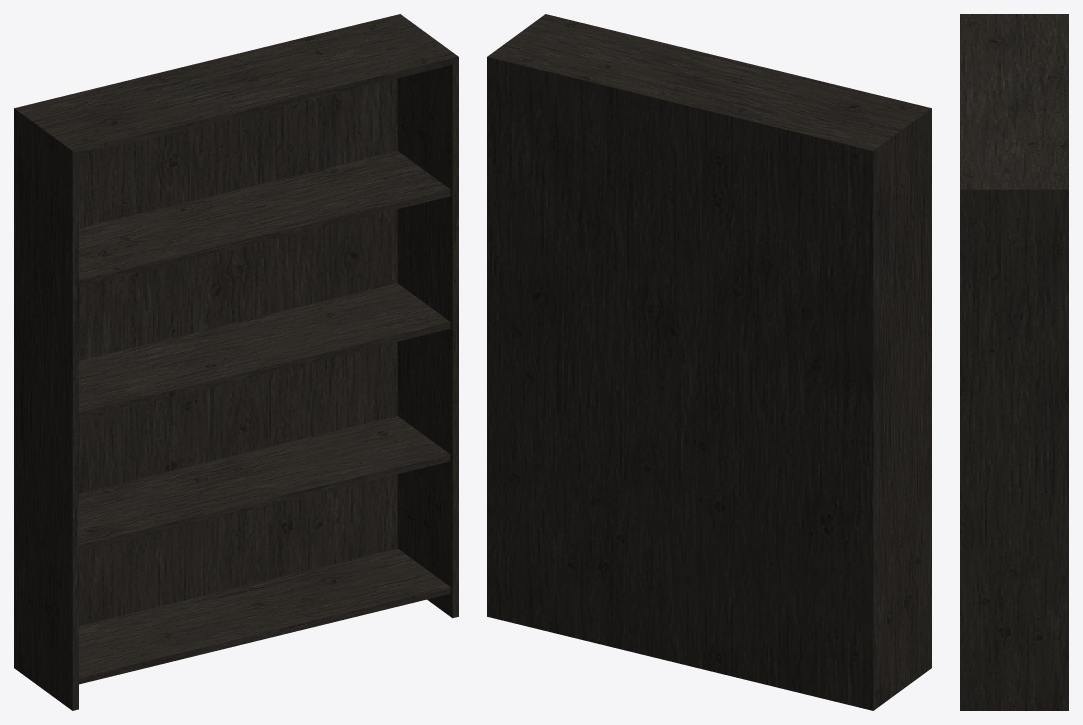
File: shelf_mp_5.glb
The picture shows the model from 3 angles, left to right: view 1: azimuth 30°, elevation 25°; view 2: azimuth 150°, elevation 25°; view 3: azimuth 270°, elevation 25°; orthographic projection. The views are drawn at different scales.
Parts seen in each view (by area): view 1: shelf_mp_5; view 2: shelf_mp_5; view 3: shelf_mp_5.
Part boxes in pixels (x1=…): shelf_mp_5: x1=14, y1=14, x2=458, y2=710; shelf_mp_5: x1=487, y1=14, x2=931, y2=710; shelf_mp_5: x1=960, y1=14, x2=1068, y2=710.
Bounding box in the file's own units: 1.22 × 1.69 × 0.32.
1 material, 1 textured.
